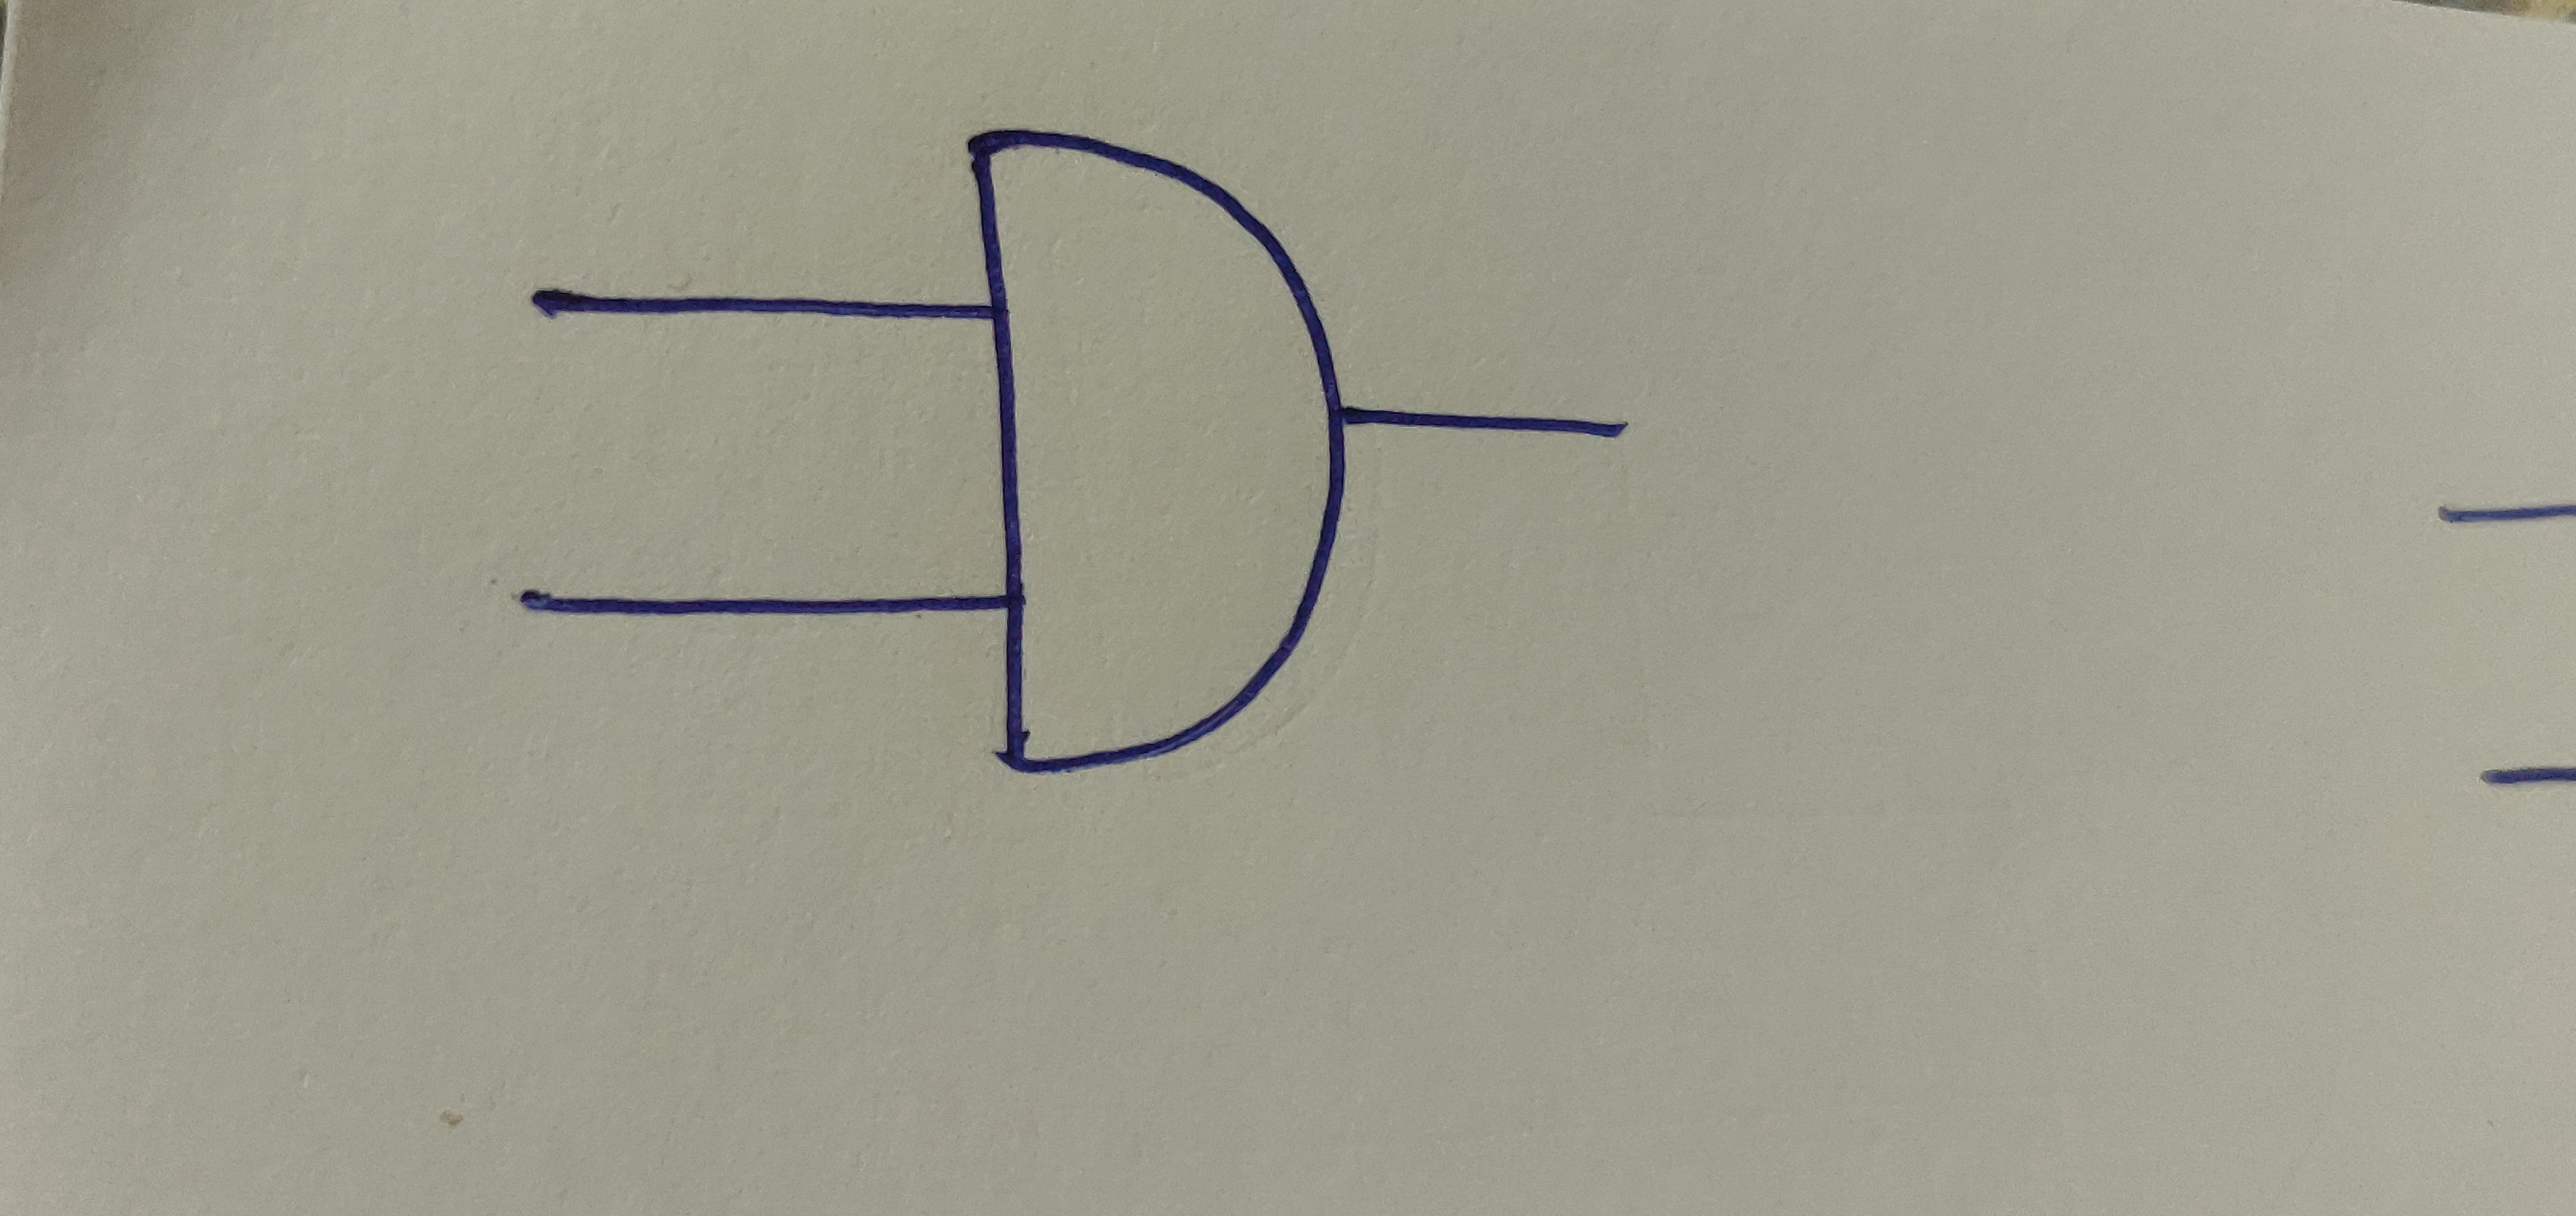and: (950, 125, 1352, 777)
